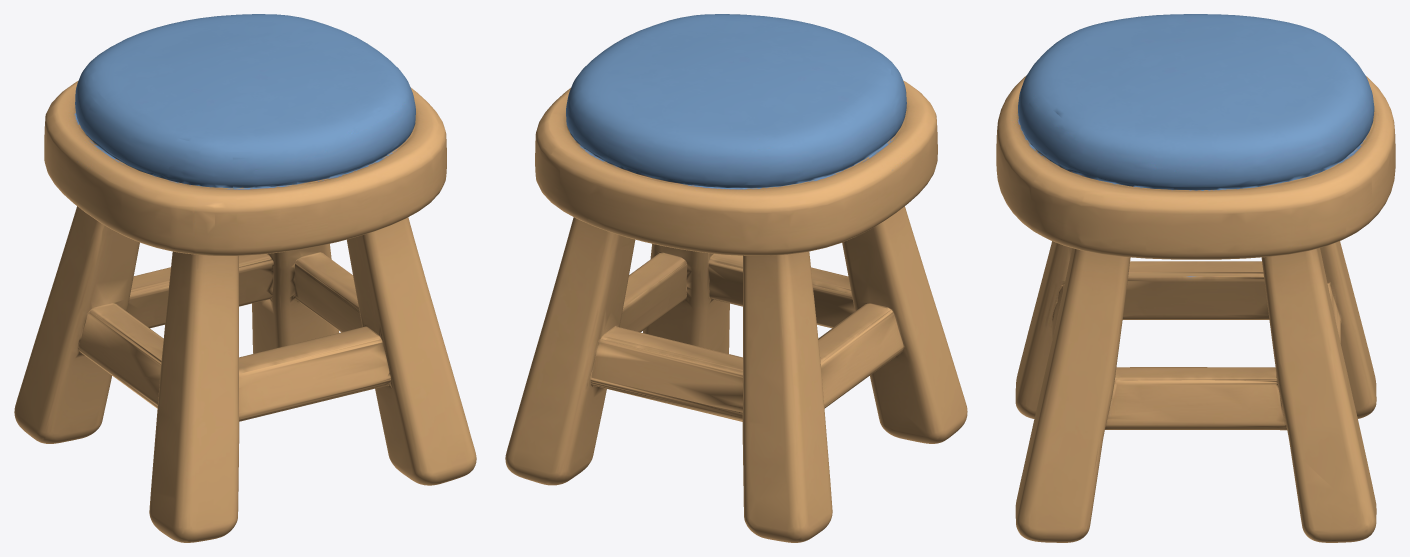
The model's file is chair.glb.
The picture shows the model from 3 angles, left to right: view 1: azimuth 30°, elevation 25°; view 2: azimuth 150°, elevation 25°; view 3: azimuth 270°, elevation 25°; orthographic projection. The views are drawn at different scales.
Visible parts, largest first — view 1: chair_mesh; view 2: chair_mesh; view 3: chair_mesh.
Boxes of the visible parts, x1,y1,x2,y2 form: chair_mesh: [14, 14, 476, 542]; chair_mesh: [505, 14, 967, 542]; chair_mesh: [996, 14, 1395, 542].
Bounding box in the file's own units: 0.5529 × 0.62 × 0.5567.
Materials: 1 (1 with a texture image).
